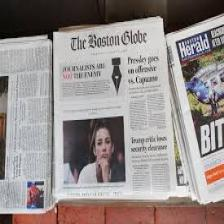paper: (53, 22, 174, 218), (163, 9, 224, 208), (0, 34, 53, 216)
